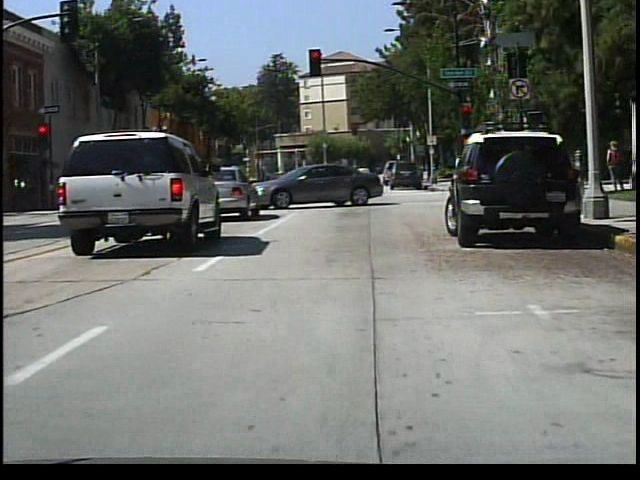person: (603, 137, 626, 192), (326, 158, 351, 200), (456, 150, 473, 188)
